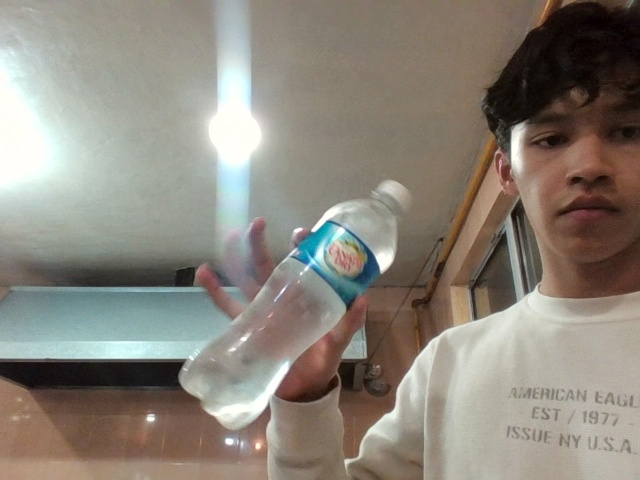botella: (114, 148, 465, 434)
